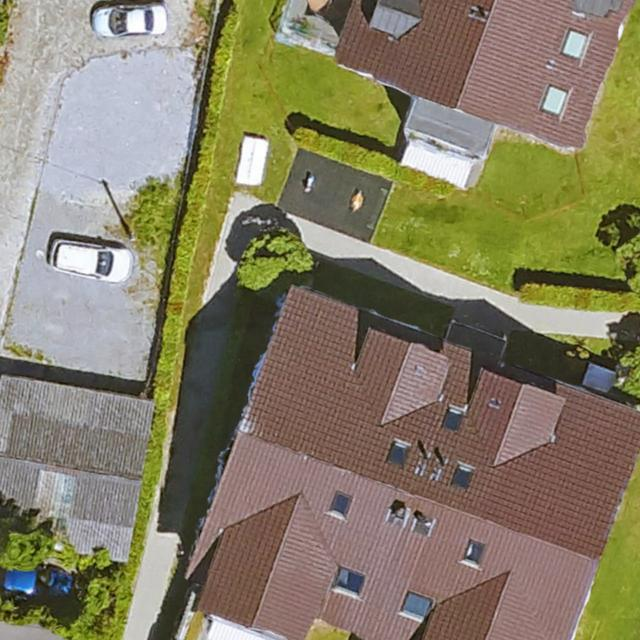tree: (238, 231, 318, 296)
